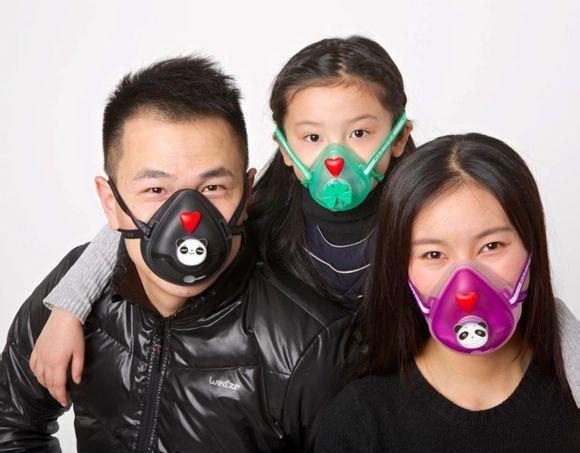OK: (121, 141, 264, 284), (413, 224, 524, 343), (293, 111, 388, 204)
